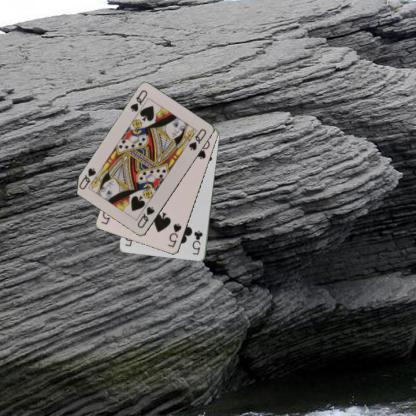5c: (190, 228, 204, 256)
5s: (165, 221, 183, 249)
Qs: (127, 87, 148, 113), (135, 204, 156, 229)
